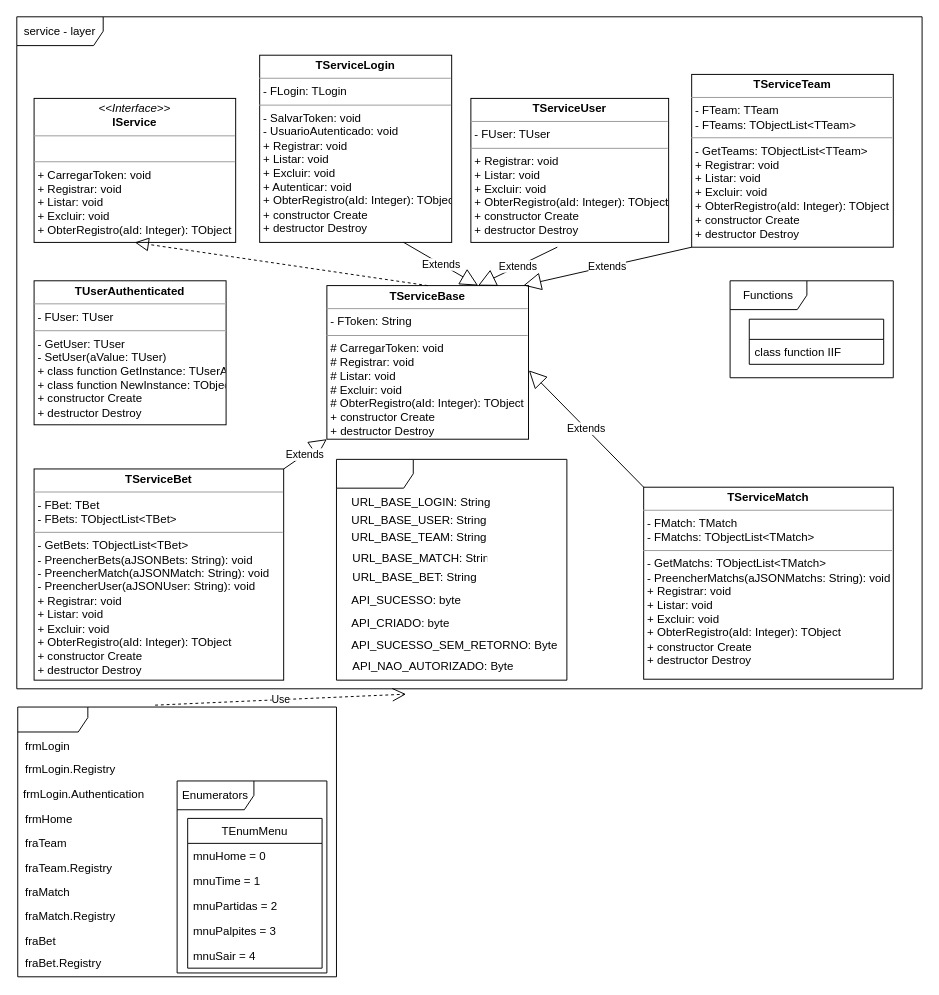
The diagram is 939 pixels wide and 995 high, and some of its shapes have lost their labels. Each missing label, with the box of its shape:
Constants: (336, 458, 567, 680)
TUtilsFunctions: (748, 318, 884, 364)
view - layer: (17, 706, 336, 977)
